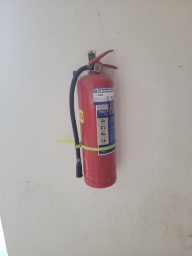fire_extinguisher: (37, 98, 142, 179), (37, 98, 142, 162)
